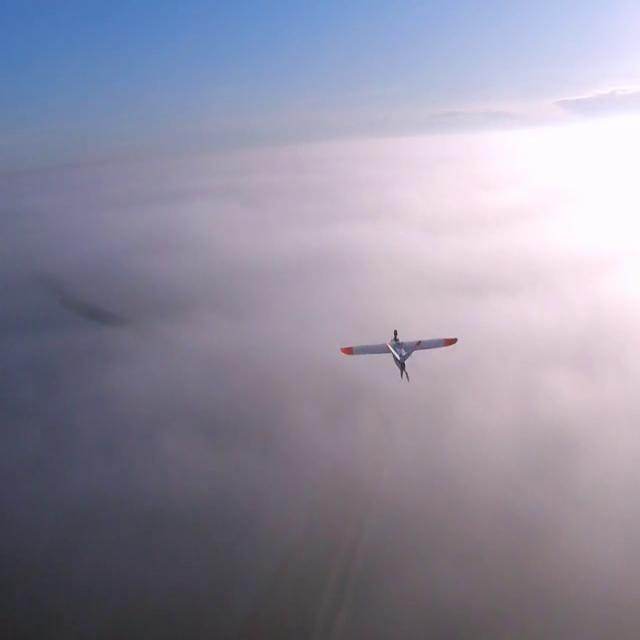iha: (370, 330, 428, 388)
